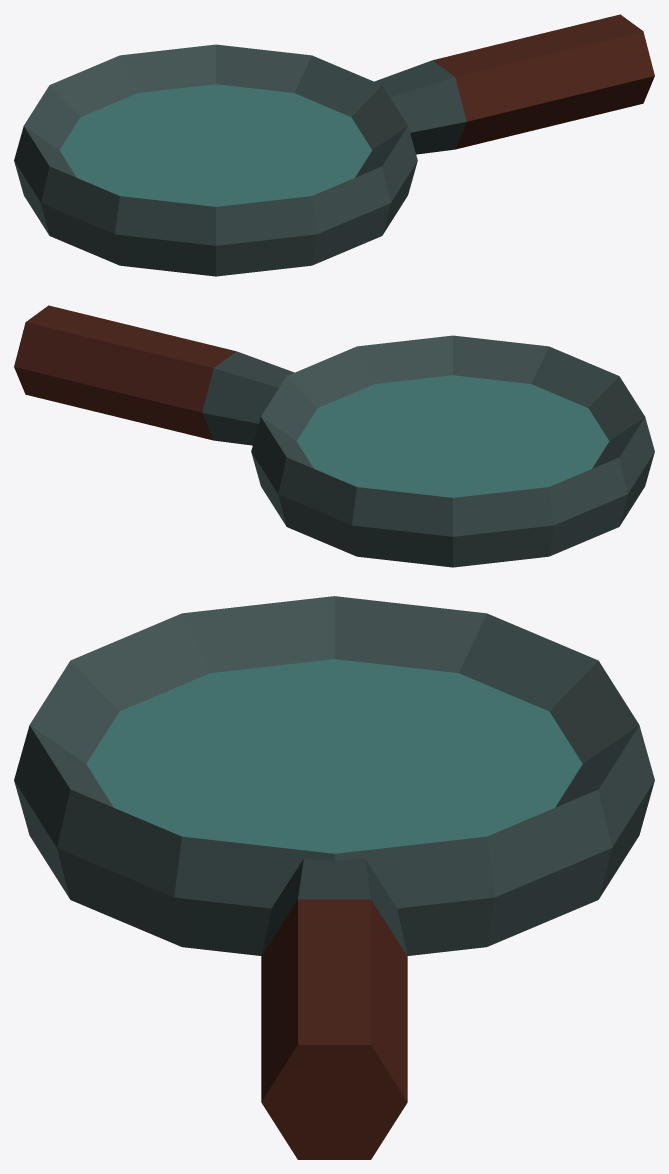
The model's file is Tool_Loupe.glb.
3 renders of one model, top to bottom at view 1: azimuth 30°, elevation 25°; view 2: azimuth 150°, elevation 25°; view 3: azimuth 270°, elevation 25°, orthographic. The views are drawn at different scales.
Parts seen in each view (by area): view 1: Loupe; view 2: Loupe; view 3: Loupe.
Part boxes in pixels (box(x1,y1,x2,y2)): Loupe: box(14, 14, 654, 276); Loupe: box(14, 305, 654, 567); Loupe: box(14, 596, 654, 1159).
Size of the model in its own units: 3.55 by 0.4157 by 2.1.
